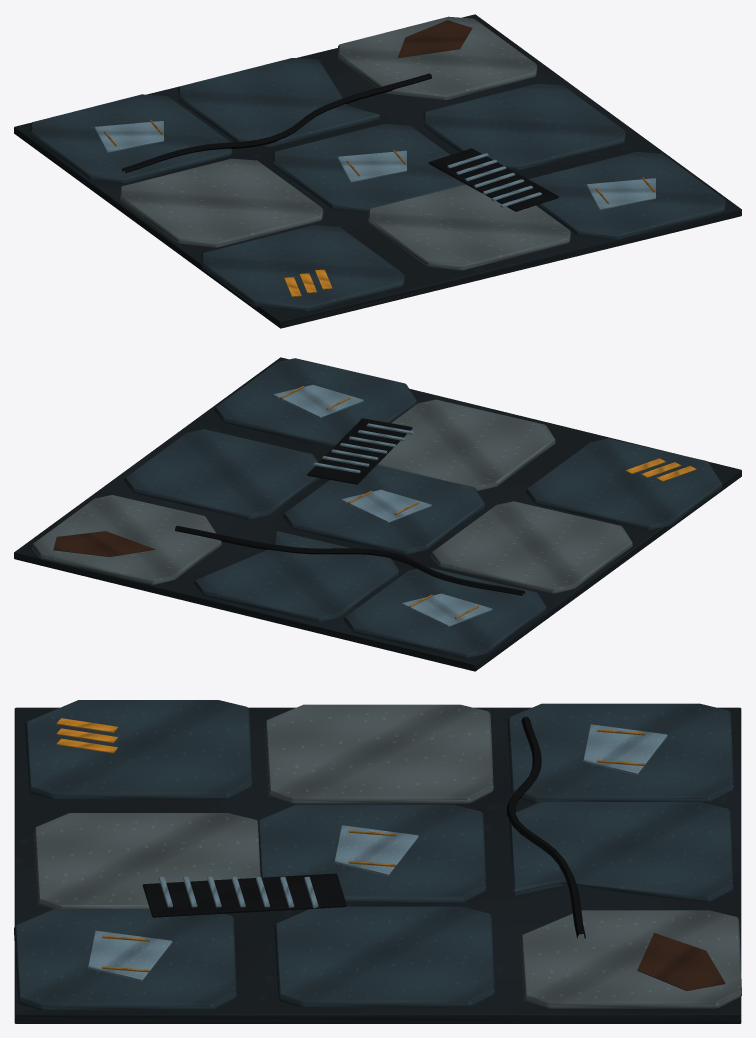
Rendered from Deck_V2_2.fbx.
3 views of the same model, one above another, from view 1: azimuth 30°, elevation 25°; view 2: azimuth 150°, elevation 25°; view 3: azimuth 270°, elevation 25° (orthographic). The views are drawn at different scales.
Parts seen in each view (by area): view 1: Deck_V2_2; view 2: Deck_V2_2; view 3: Deck_V2_2.
Part boxes in pixels (bbox=[...]): Deck_V2_2: bbox=[14, 14, 741, 328]; Deck_V2_2: bbox=[14, 357, 741, 671]; Deck_V2_2: bbox=[14, 700, 741, 1023].
Size of the model in its own units: 6.04 by 0.214 by 6.01.
